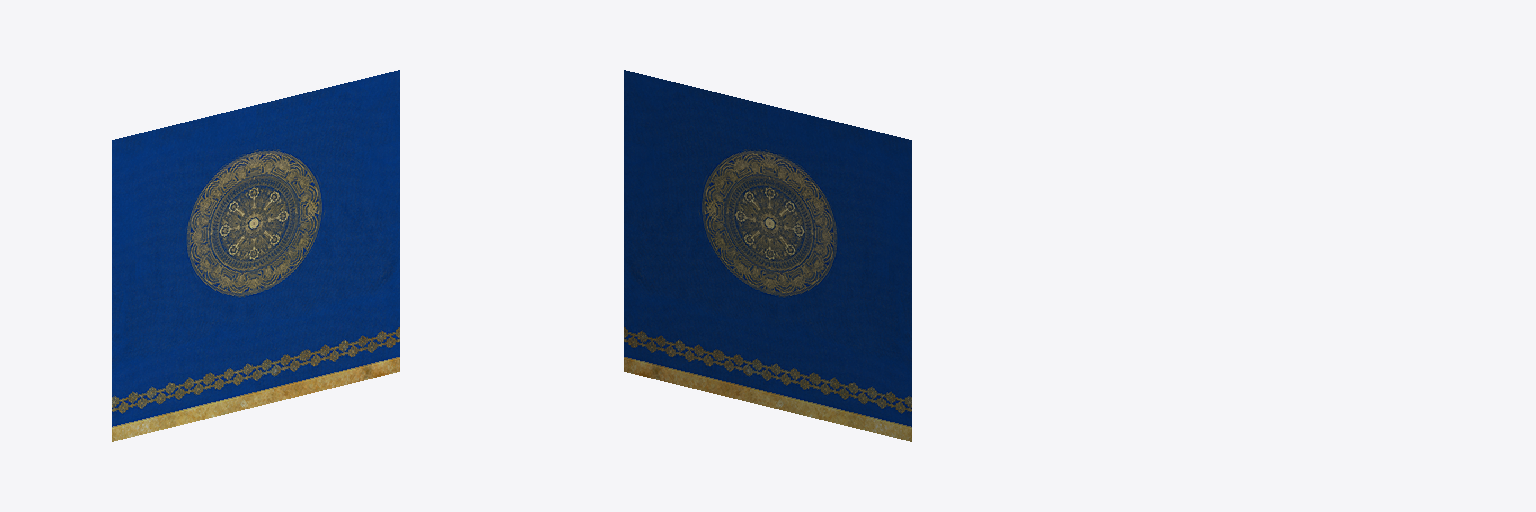
The picture shows the model from 3 angles: view 1: azimuth 30°, elevation 25°; view 2: azimuth 150°, elevation 25°; view 3: azimuth 270°, elevation 25°; orthographic projection.
Visible parts, largest first — view 1: Plane; view 2: Plane; view 3: none.
Part boxes in pixels (left/top/right/bottom): Plane: left=112, top=70, right=399, bottom=441; Plane: left=624, top=70, right=911, bottom=441.
Size of the model in its own units: 2 by 2 by 0.
Materials: 1 (1 with a texture image).